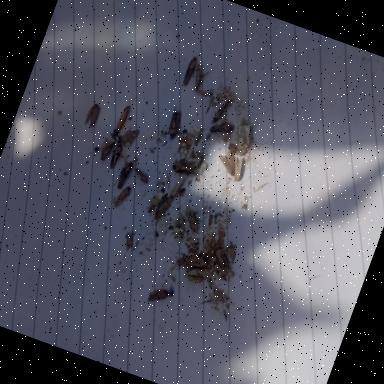pbw: (162, 104, 186, 142), (168, 152, 200, 180), (208, 246, 237, 276), (177, 204, 205, 235), (214, 147, 242, 177), (115, 94, 136, 134), (180, 52, 200, 90), (112, 158, 134, 192), (151, 192, 174, 224), (180, 250, 212, 273), (211, 95, 231, 128), (189, 64, 211, 94), (96, 133, 117, 164), (110, 183, 132, 212), (184, 263, 213, 285), (146, 285, 172, 309), (208, 117, 235, 140), (107, 142, 125, 172), (228, 154, 247, 182), (118, 125, 139, 148), (83, 102, 101, 128), (168, 175, 185, 202), (130, 168, 150, 185), (226, 143, 248, 158), (186, 273, 204, 286), (193, 87, 211, 99)
